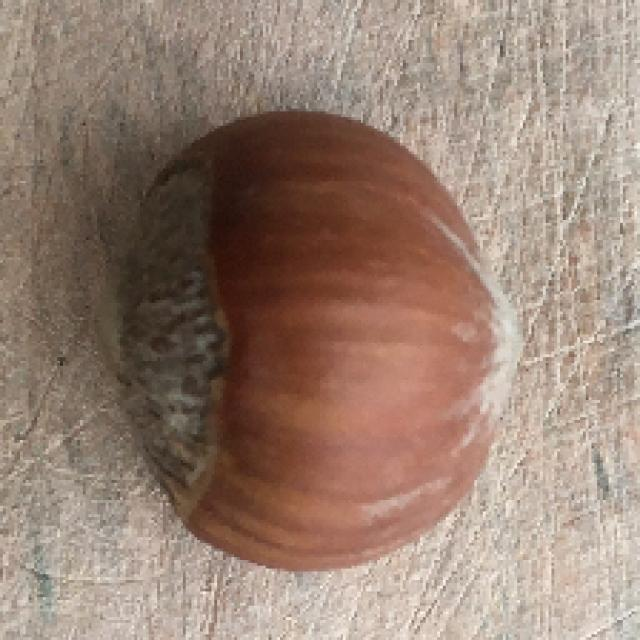DamagedHazelnut: (118, 106, 531, 578)
